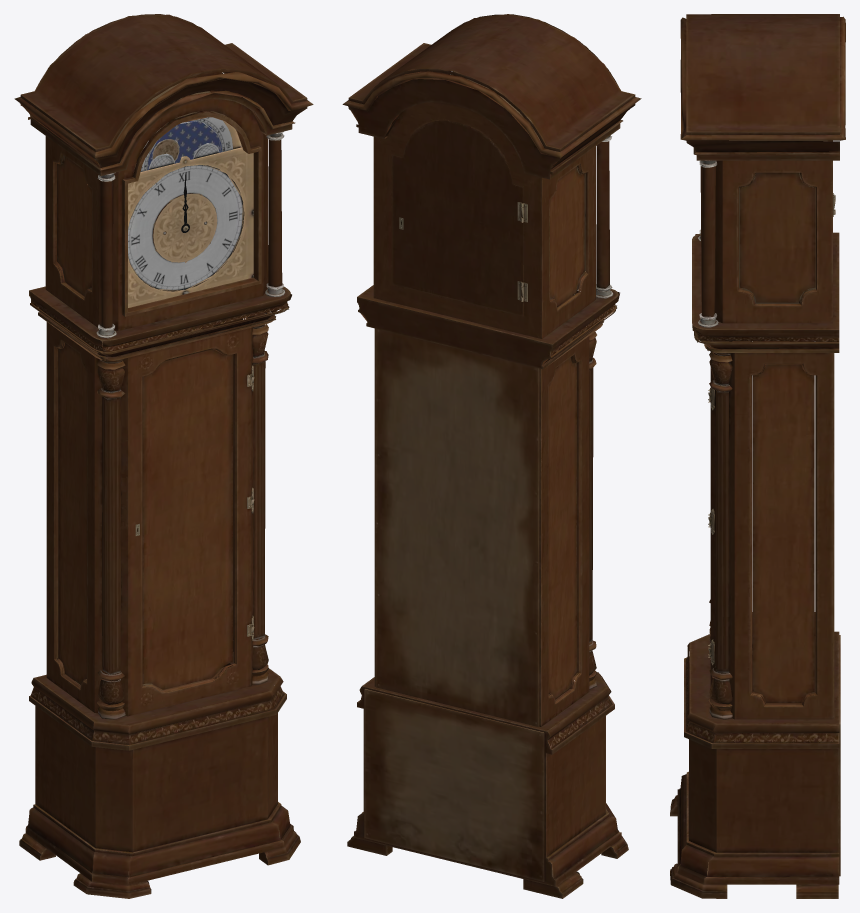
File: vintage_grandfather_clock_01.glb
3 renders of one model, left to right at view 1: azimuth 30°, elevation 25°; view 2: azimuth 150°, elevation 25°; view 3: azimuth 270°, elevation 25°, orthographic. The views are drawn at different scales.
Parts seen in each view (by area): view 1: vintage_grandfather_clock_01; view 2: vintage_grandfather_clock_01; view 3: vintage_grandfather_clock_01.
Boxes of the visible parts, x1=… form: vintage_grandfather_clock_01: x1=14, y1=14, x2=313, y2=898; vintage_grandfather_clock_01: x1=342, y1=14, x2=641, y2=898; vintage_grandfather_clock_01: x1=670, y1=14, x2=845, y2=898.
Size of the model in its own units: 0.6257 by 2.19 by 0.4268.
Materials: 2 (2 with a texture image).
